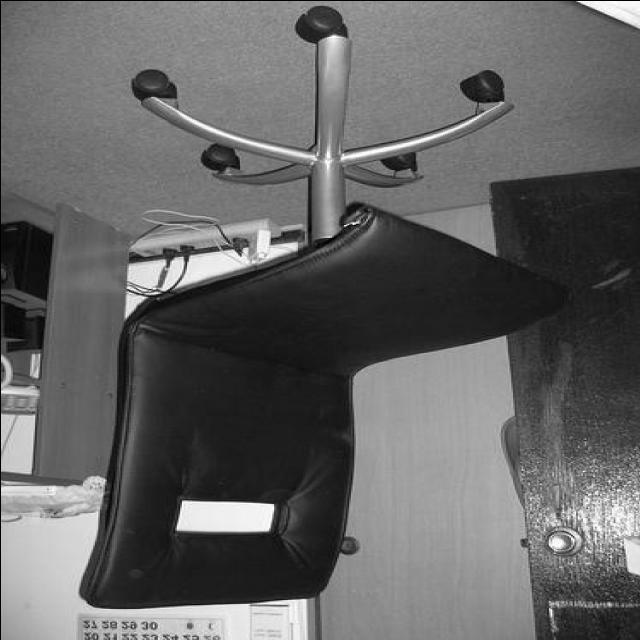chair: (74, 7, 569, 608)
